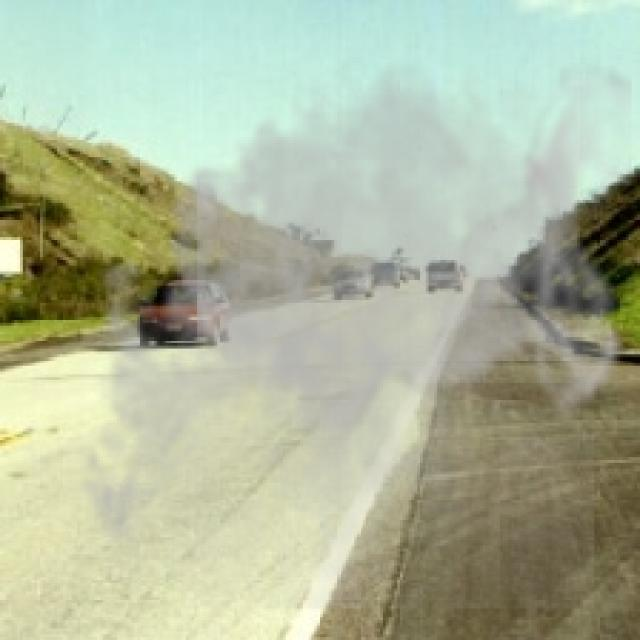smoke: (63, 40, 631, 609)
